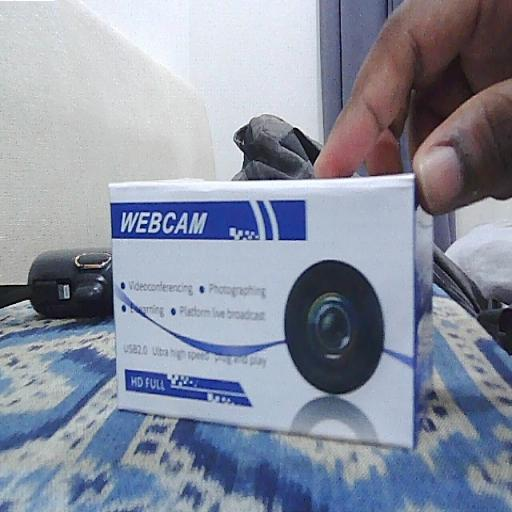webcam_box: (107, 172, 434, 453)
